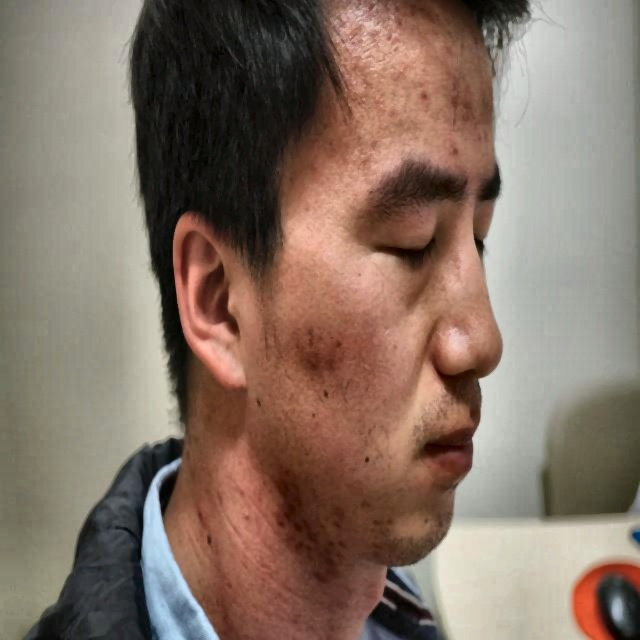comedone: (300, 343, 326, 377), (240, 505, 268, 532), (191, 500, 213, 532)
